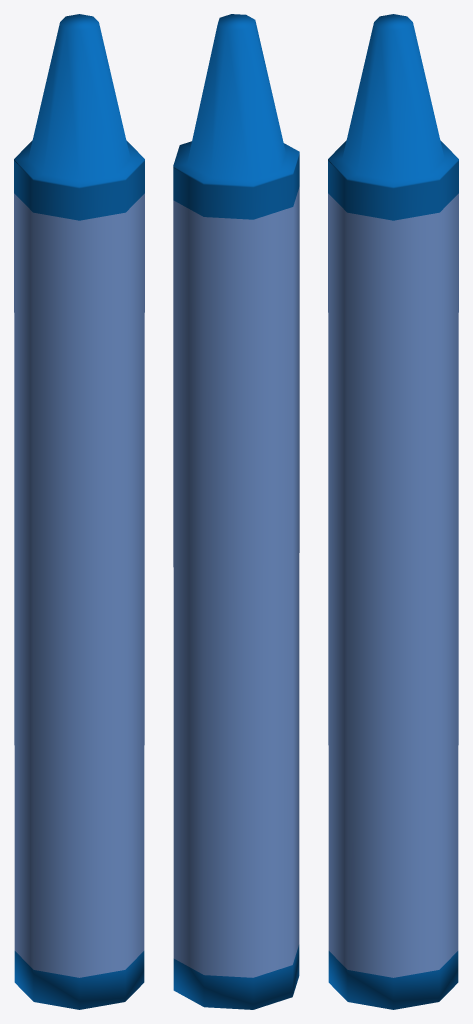
The model's file is Crayon.fbx.
3 renders of one model, left to right at view 1: azimuth 90°, elevation 25°; view 2: azimuth 150°, elevation 25°; view 3: azimuth 270°, elevation 25°, orthographic.
Visible parts, largest first — view 1: Crayon; view 2: Crayon; view 3: Crayon.
Part boxes in pixels (bbox=[...]): Crayon: bbox=[14, 14, 144, 1009]; Crayon: bbox=[173, 14, 299, 1009]; Crayon: bbox=[328, 14, 458, 1009].
Bounding box in the file's own units: 42 × 340 × 42.
